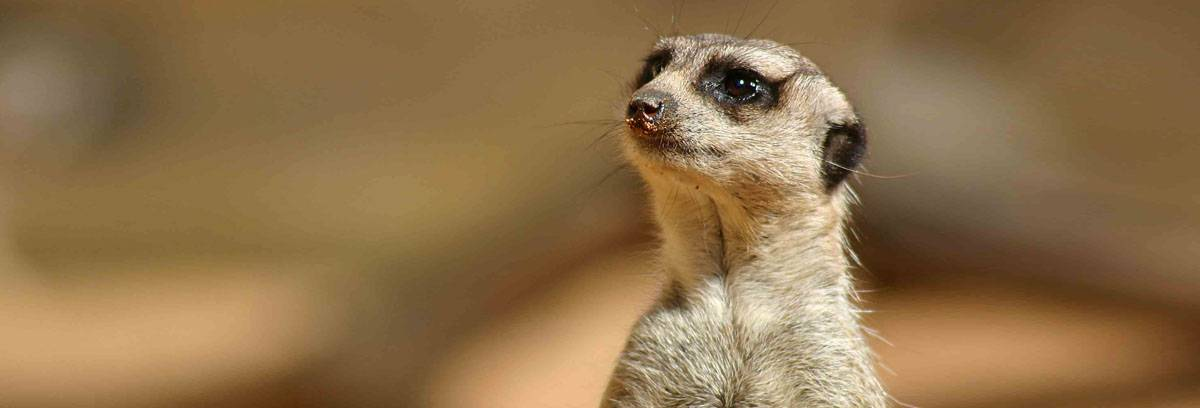meerkat: (562, 10, 891, 408)
